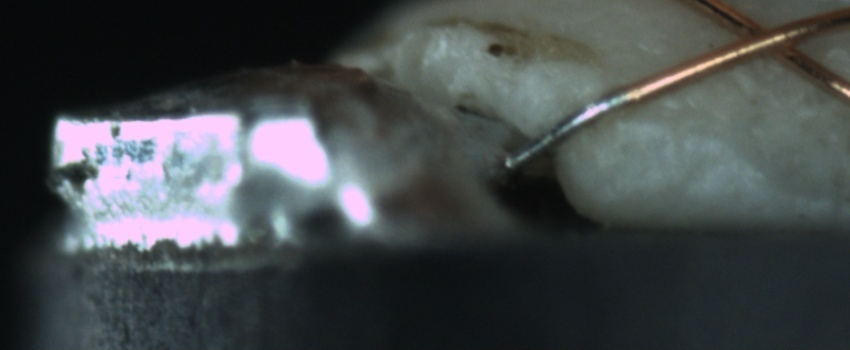CL: (715, 5, 821, 69)
DL: (598, 96, 710, 148)
TS: (507, 90, 632, 169)
